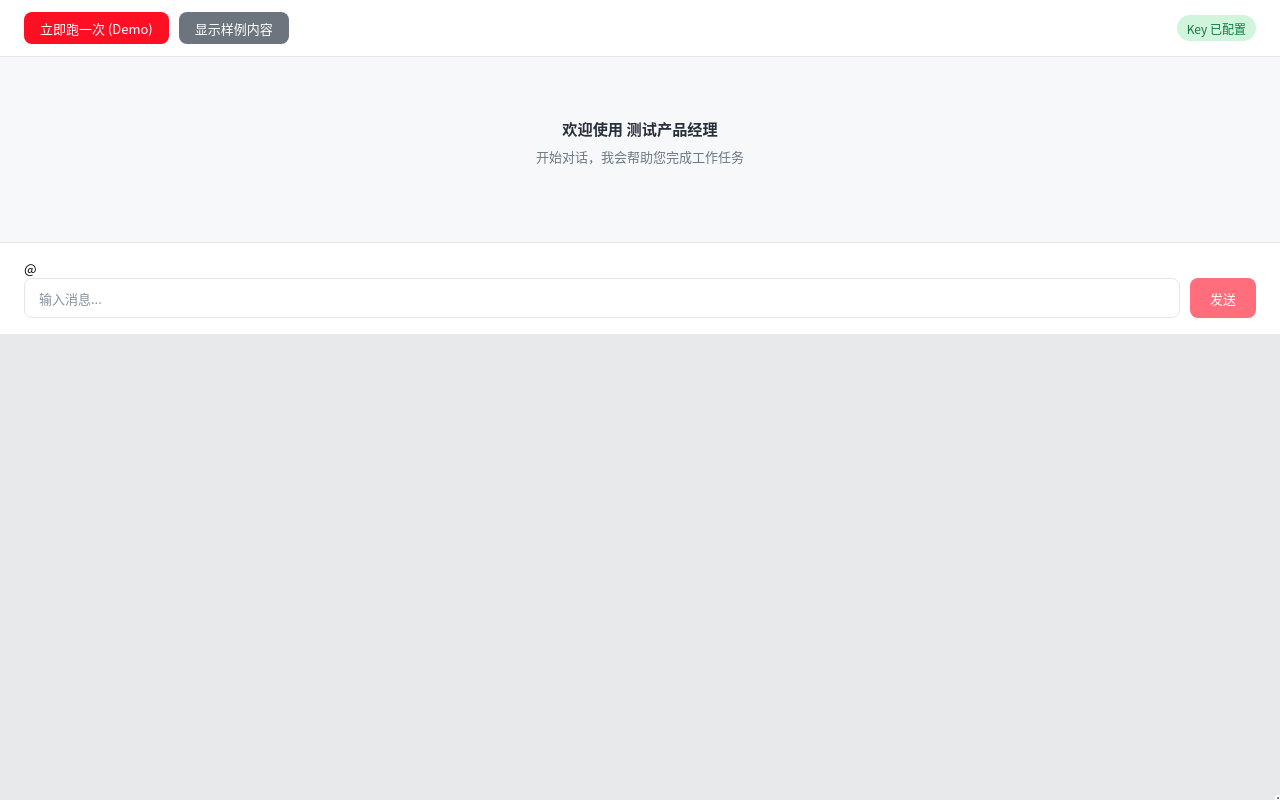
TC-DEMO-ERROR-502-DIFFERENTIATE: Demo fire 错误区分 502/503 vs 连接失败 › 场景 1: fetch 连接失败 → 提示无法连接到 Scheduler › should show connection error when fetch fails with TypeError
What coordinates should you click on to do the following:
click the button with class "fire-job-btn"
I would click on:
 (96, 28)
Its box is left=24, top=12, right=169, bottom=44.
(page scrolled)
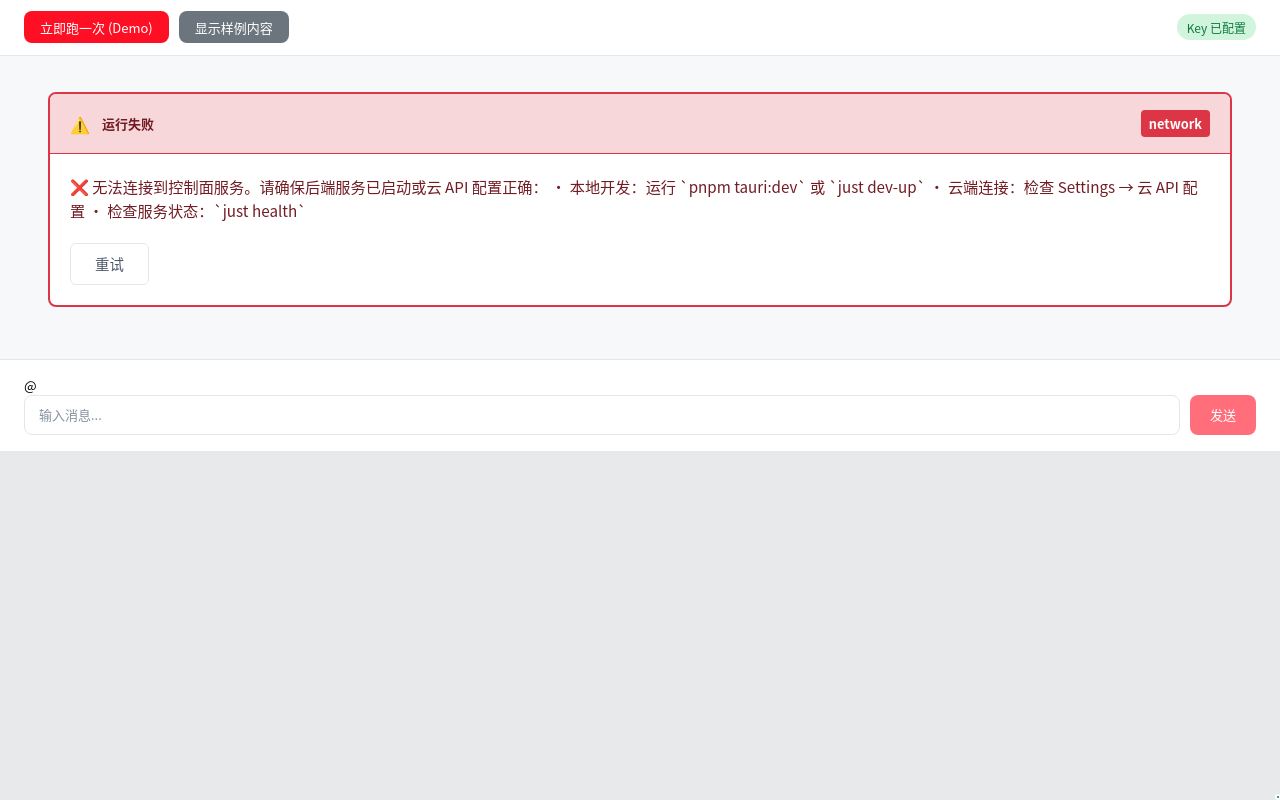
Expected: the element with class "error-card" is shown, left=48, top=92, right=1232, bottom=307
